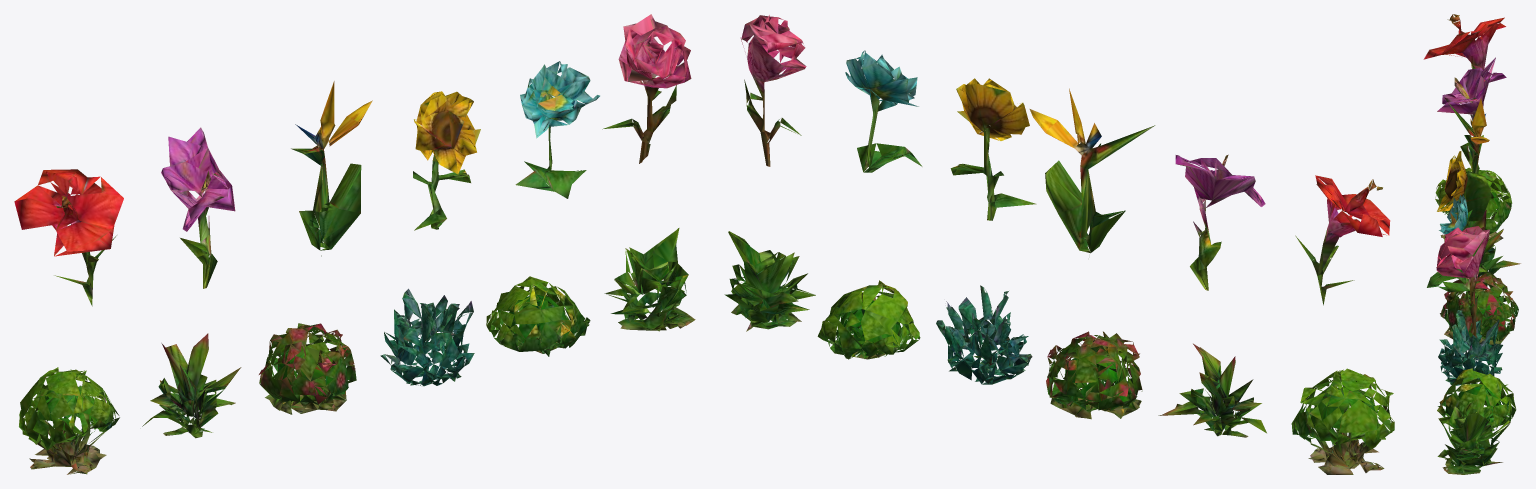
Rendered from buesche.glb.
3 renders of one model, left to right at view 1: azimuth 30°, elevation 25°; view 2: azimuth 150°, elevation 25°; view 3: azimuth 270°, elevation 25°, orthographic. The views are drawn at different scales.
Size of the model in its own units: 1.85 by 0.8354 by 0.2987.
1 material, 1 textured.
